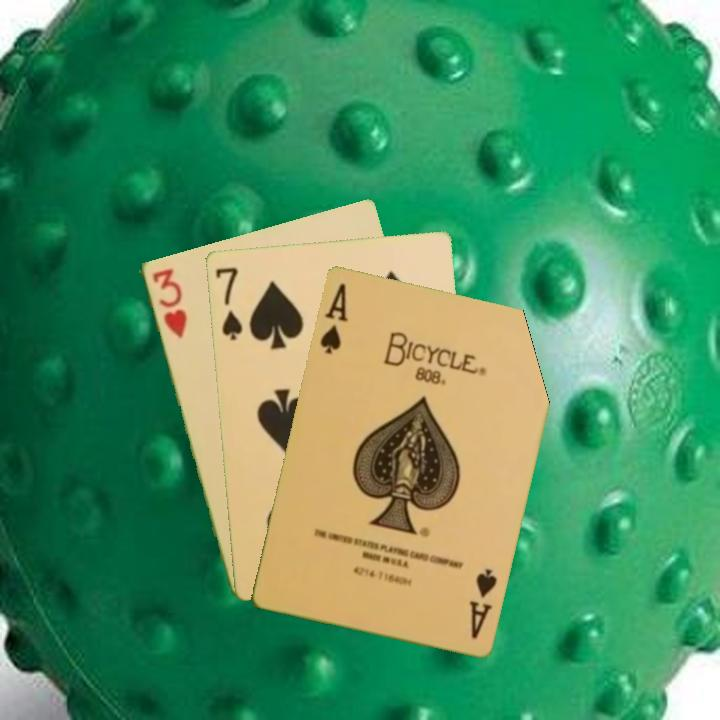3h: (148, 264, 190, 341)
7s: (211, 263, 245, 343)
As: (316, 279, 351, 357), (465, 564, 500, 642)
